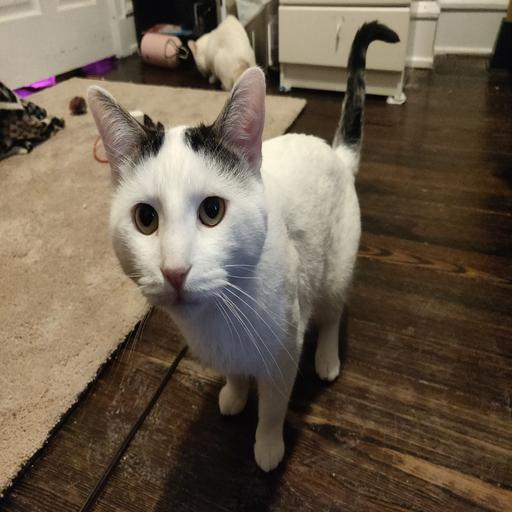cat: (80, 66, 371, 357)
